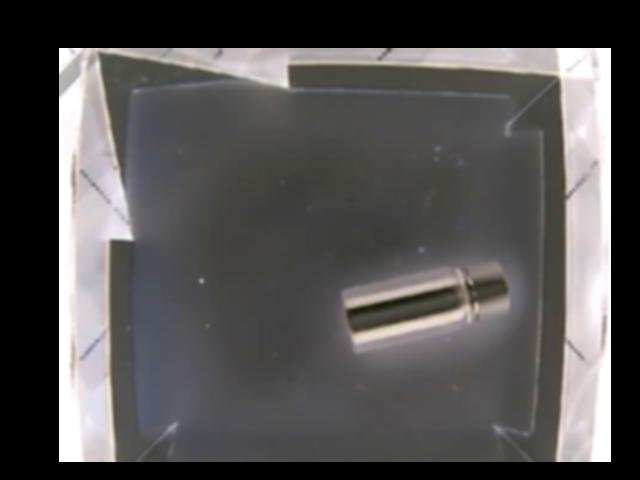Bottle: (340, 258, 511, 354)
